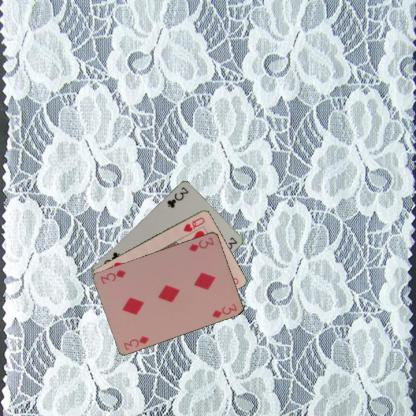3c: (164, 184, 190, 209)
3d: (121, 333, 150, 351), (187, 234, 215, 252)
Qh: (180, 214, 206, 233)
